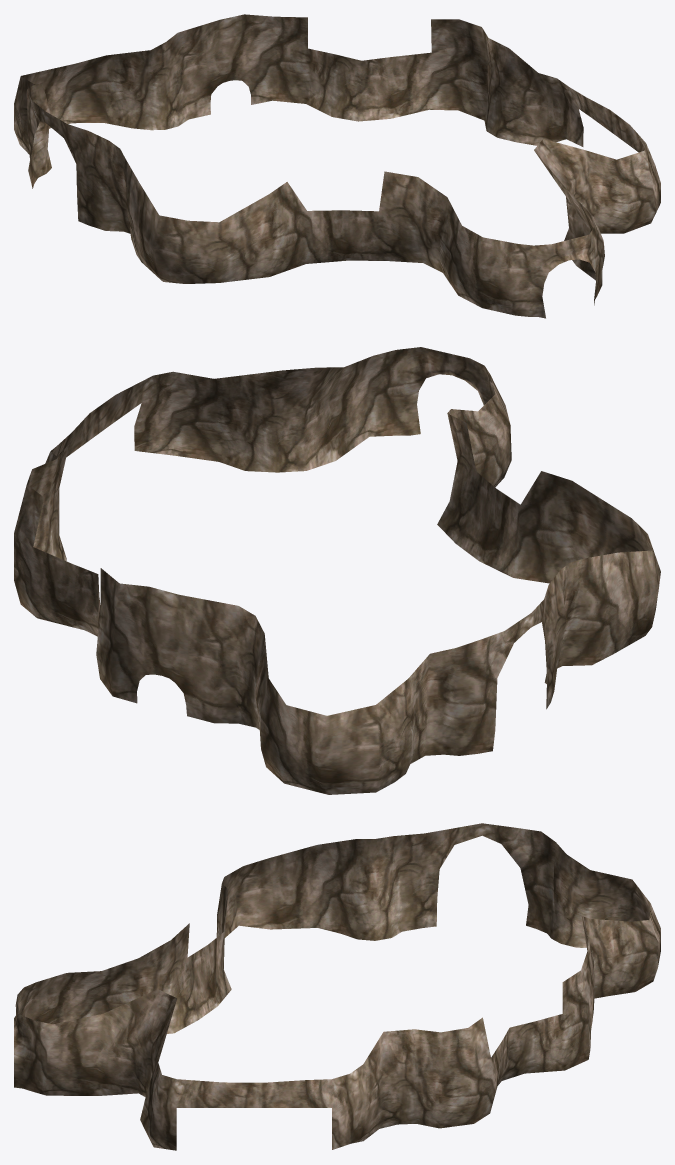
Rendered from EKH_JAIL_PS_JA_OBJECT07.fbx.
The picture shows the model from 3 angles, top to bottom: view 1: azimuth 30°, elevation 25°; view 2: azimuth 150°, elevation 25°; view 3: azimuth 270°, elevation 25°; orthographic projection. The views are drawn at different scales.
Parts seen in each view (by area): view 1: EKH_JAIL_PS_JA_OBJECT07; view 2: EKH_JAIL_PS_JA_OBJECT07; view 3: EKH_JAIL_PS_JA_OBJECT07.
Boxes of the visible parts, <box> form: EKH_JAIL_PS_JA_OBJECT07: <box>14,14,660,318</box>; EKH_JAIL_PS_JA_OBJECT07: <box>14,347,660,794</box>; EKH_JAIL_PS_JA_OBJECT07: <box>14,823,660,1150</box>.
Bounding box in the file's own units: 181583 × 39056 × 215227.
1 material, 1 textured.
